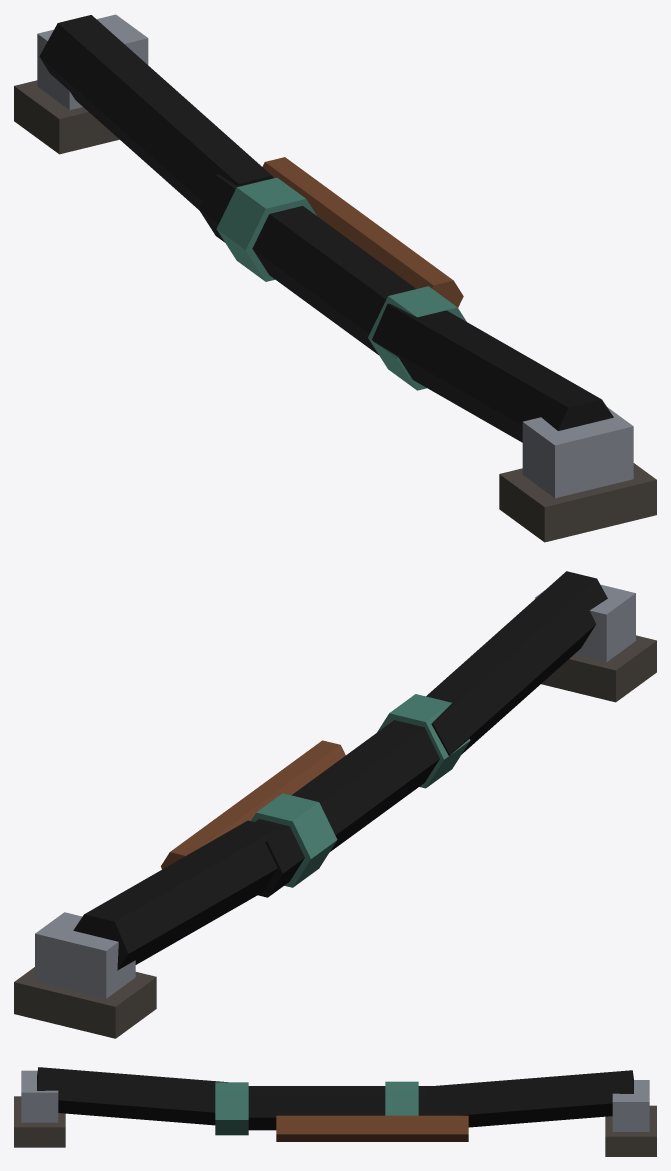
Rendered from salvage_hose.glb.
3 renders of one model, top to bottom at view 1: azimuth 30°, elevation 25°; view 2: azimuth 150°, elevation 25°; view 3: azimuth 270°, elevation 25°, orthographic. The views are drawn at different scales.
Size of the model in its own units: 0.133 by 0.0921 by 0.87.
